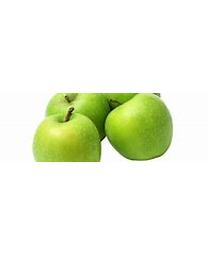apple: (103, 93, 174, 160), (33, 109, 100, 162), (46, 93, 111, 143)
